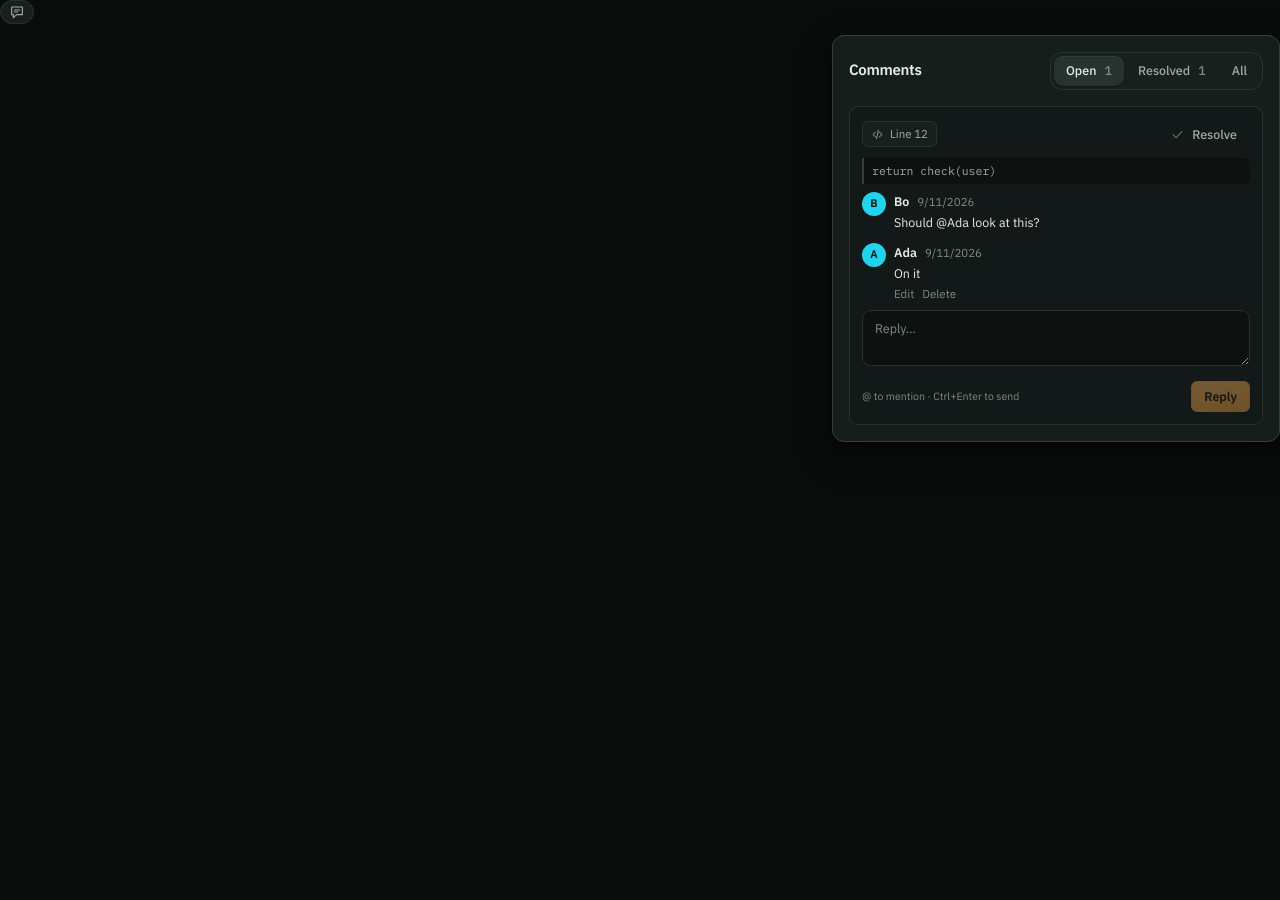
Test case: the comments panel › lists open threads first, and resolved ones behind their own filter
Click the tab "Resolved 1" at x=1172, y=71, box [1126,56,1218,86]
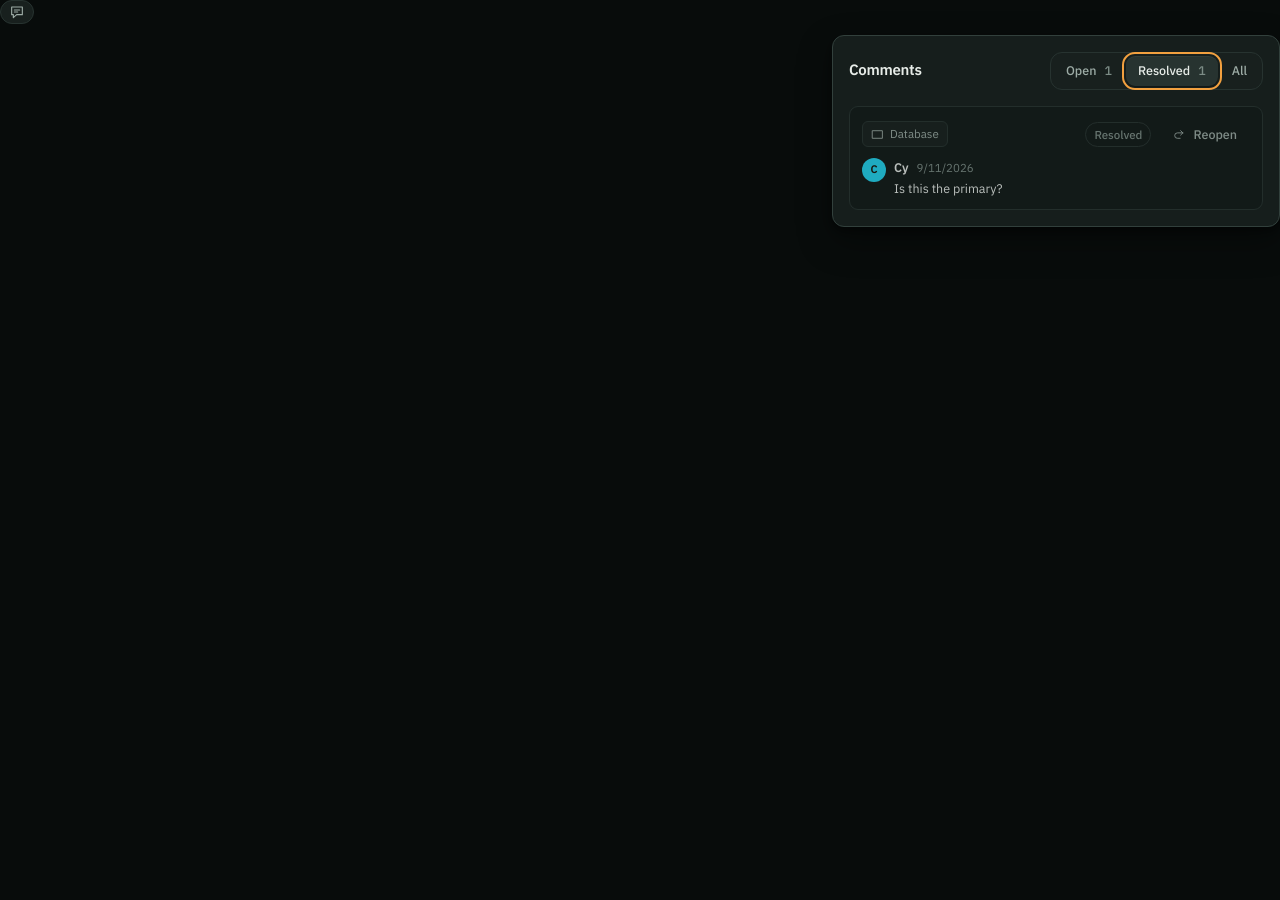
Now the element named "Comment on Database" is shown, box [849,106,1263,210]
Now the text "Resolved" is shown, box [1085,122,1152,147]
